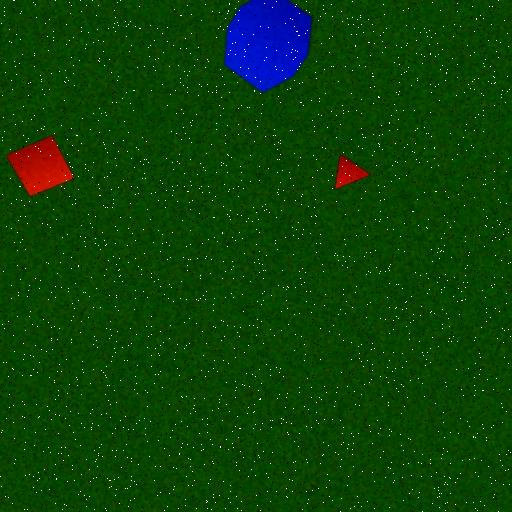RED_SQUARE: (5, 135, 75, 198)
